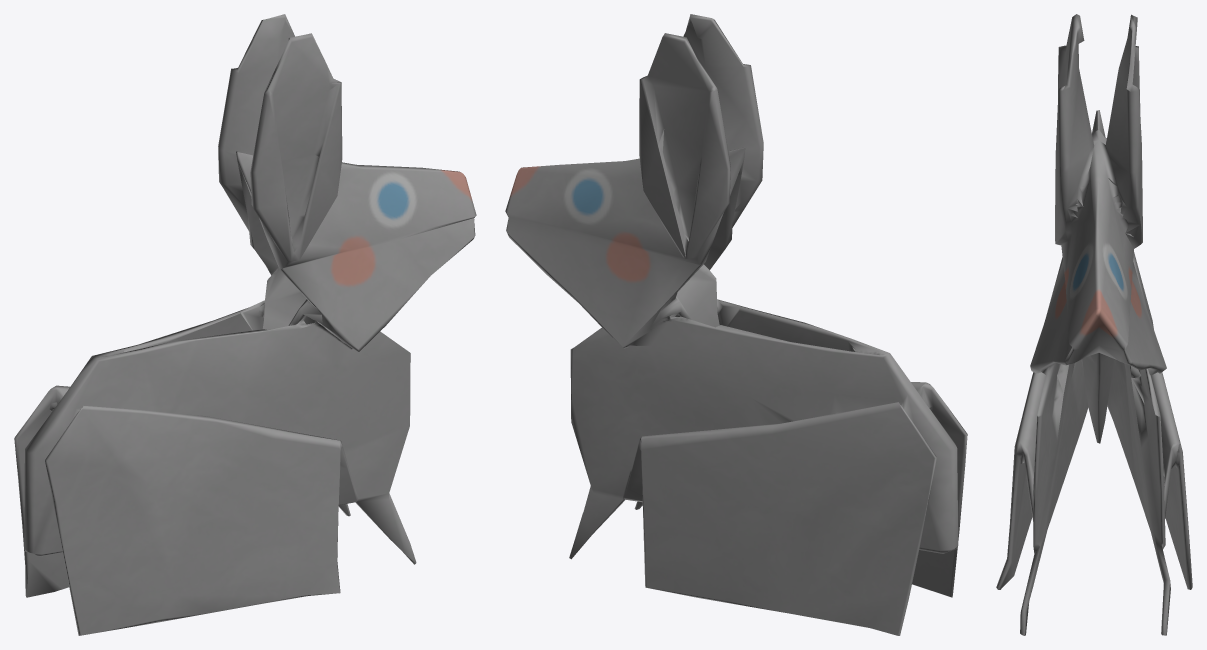
The model's file is rabbit_FDRemesh_LOD2.fbx.
3 renders of one model, left to right at view 1: azimuth 30°, elevation 25°; view 2: azimuth 150°, elevation 25°; view 3: azimuth 270°, elevation 25°, orthographic. The views are drawn at different scales.
Parts seen in each view (by area): view 1: Simplygon_Proxy_da6d16a2-8938-433b-b848-e14491bca076; view 2: Simplygon_Proxy_da6d16a2-8938-433b-b848-e14491bca076; view 3: Simplygon_Proxy_da6d16a2-8938-433b-b848-e14491bca076.
Part boxes in pixels (x1=…): Simplygon_Proxy_da6d16a2-8938-433b-b848-e14491bca076: x1=14, y1=14, x2=476, y2=635; Simplygon_Proxy_da6d16a2-8938-433b-b848-e14491bca076: x1=505, y1=14, x2=967, y2=635; Simplygon_Proxy_da6d16a2-8938-433b-b848-e14491bca076: x1=996, y1=14, x2=1192, y2=635.
Bounding box in the file's own units: 13.71 × 15.91 × 4.97.
Materials: 1 (1 with a texture image).
